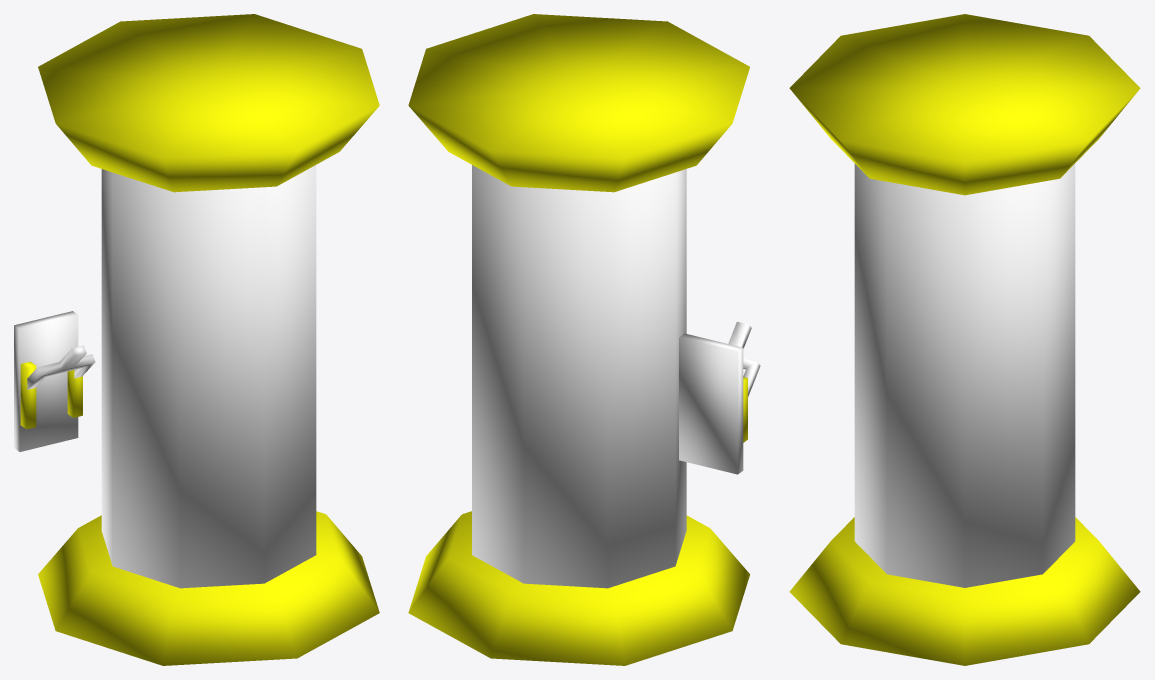
The model's file is INVISIBLE_ZCTRIGGERTELEPORT.glb.
The picture shows the model from 3 angles, left to right: view 1: azimuth 30°, elevation 25°; view 2: azimuth 150°, elevation 25°; view 3: azimuth 270°, elevation 25°; orthographic projection.
Visible parts, largest first — view 1: Mesh; view 2: Mesh; view 3: Mesh.
Boxes of the visible parts, x1=… form: Mesh: x1=14, y1=14, x2=379, y2=665; Mesh: x1=408, y1=14, x2=760, y2=665; Mesh: x1=789, y1=14, x2=1140, y2=665.
Bounding box in the file's own units: 0.6802 × 1 × 0.632.
